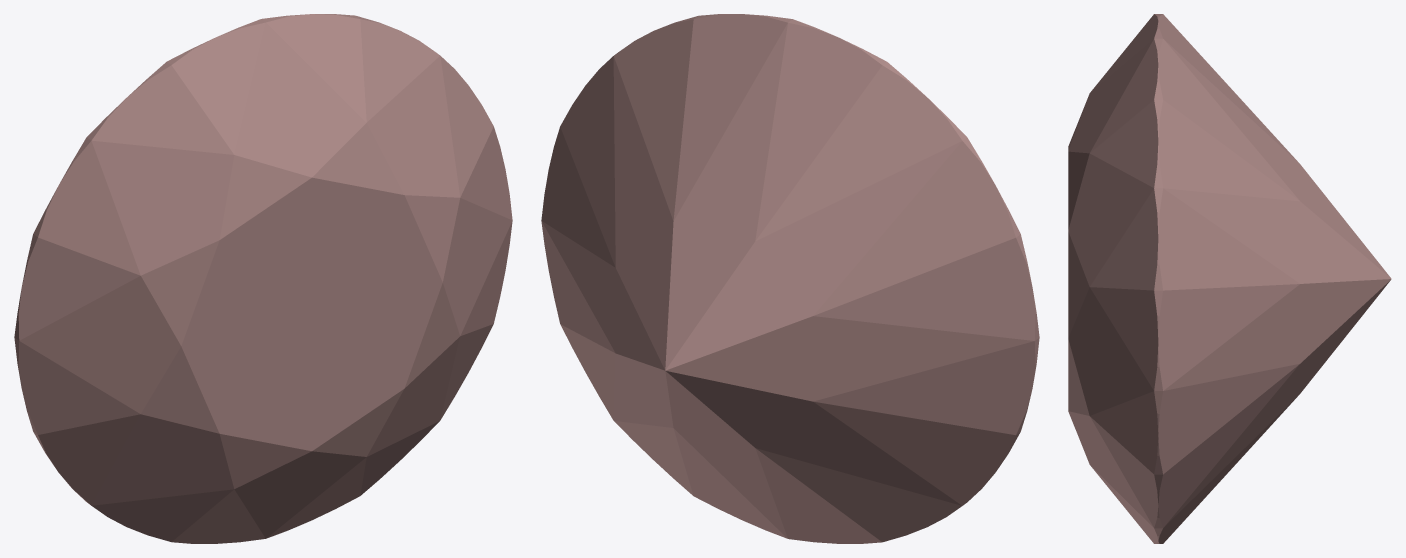
File: marlene.glb
The picture shows the model from 3 angles, left to right: view 1: azimuth 30°, elevation 25°; view 2: azimuth 150°, elevation 25°; view 3: azimuth 270°, elevation 25°; orthographic projection. The views are drawn at different scales.
Visible parts, largest first — view 1: Marlene; view 2: Marlene; view 3: Marlene.
Boxes of the visible parts, bbox=[...] form: Marlene: bbox=[14, 14, 512, 543]; Marlene: bbox=[541, 14, 1039, 543]; Marlene: bbox=[1068, 14, 1391, 543].
Size of the model in its own units: 2.12 by 2.12 by 1.3.
